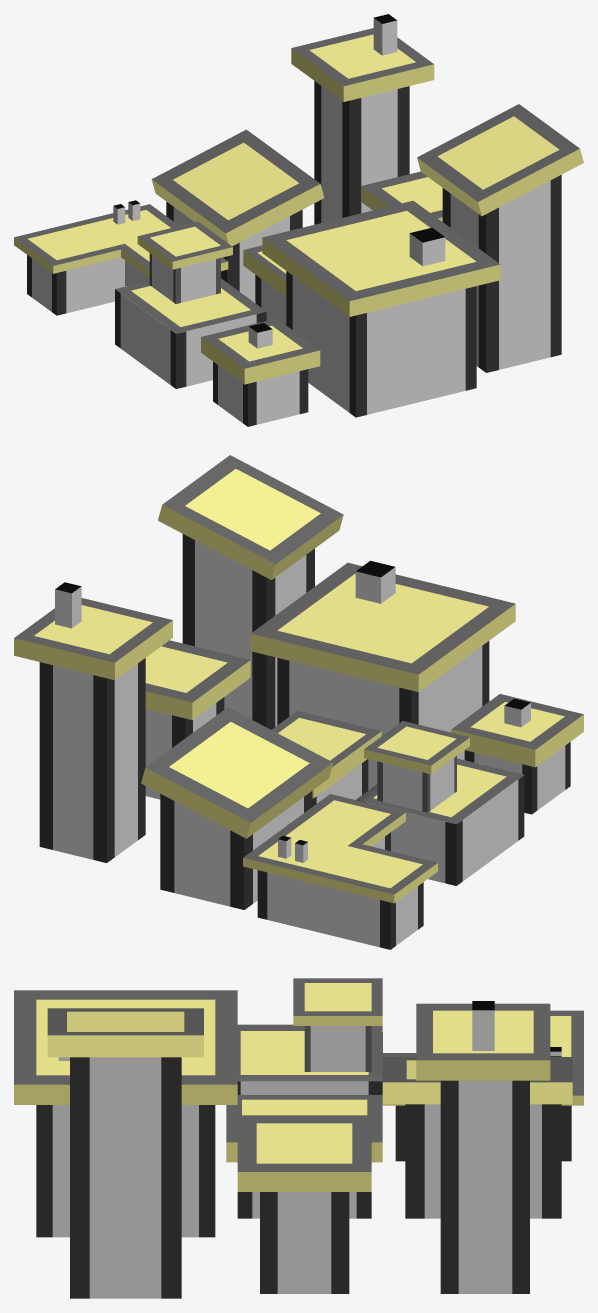
Rendered from Hovels_all.glb.
The picture shows the model from 3 angles, top to bottom: view 1: azimuth 30°, elevation 25°; view 2: azimuth 150°, elevation 25°; view 3: azimuth 270°, elevation 25°; orthographic projection. The views are drawn at different scales.
Parts seen in each view (by area): view 1: Hovel9, Hovel4, Hovel7, Hovel8, Hovel5, Hovel6, Hovel3, Hovel1, Hovel2; view 2: Hovel9, Hovel7, Hovel4, Hovel5, Hovel6, Hovel8, Hovel3, Hovel1, Hovel2; view 3: Hovel4, Hovel7, Hovel9, Hovel1, Hovel8, Hovel5, Hovel2, Hovel6.
Boxes of the visible parts, bbox=[...] form: Hovel9: bbox=[262, 200, 500, 417]; Hovel4: bbox=[417, 104, 583, 372]; Hovel7: bbox=[291, 14, 434, 224]; Hovel8: bbox=[115, 221, 266, 388]; Hovel5: bbox=[151, 129, 324, 301]; Hovel6: bbox=[14, 200, 228, 315]; Hovel3: bbox=[201, 318, 320, 426]; Hovel1: bbox=[361, 171, 442, 221]; Hovel2: bbox=[243, 245, 286, 324]; Hovel9: bbox=[250, 560, 515, 790]; Hovel7: bbox=[14, 582, 172, 862]; Hovel4: bbox=[158, 455, 343, 729]; Hovel5: bbox=[141, 707, 333, 909]; Hovel6: bbox=[243, 794, 437, 949]; Hovel8: bbox=[356, 721, 524, 885]; Hovel3: bbox=[451, 694, 583, 814]; Hovel1: bbox=[145, 640, 250, 799]; Hovel2: bbox=[271, 710, 381, 806]; Hovel4: bbox=[47, 1008, 203, 1298]; Hovel7: bbox=[416, 1001, 550, 1293]; Hovel9: bbox=[14, 990, 237, 1237]; Hovel1: bbox=[237, 1115, 371, 1293]; Hovel8: bbox=[237, 978, 382, 1094]; Hovel5: bbox=[382, 1057, 572, 1218]; Hovel2: bbox=[226, 1095, 382, 1218]; Hovel6: bbox=[383, 1010, 583, 1161].
Size of the model in its own units: 2.99 by 1.75 by 3.19.
